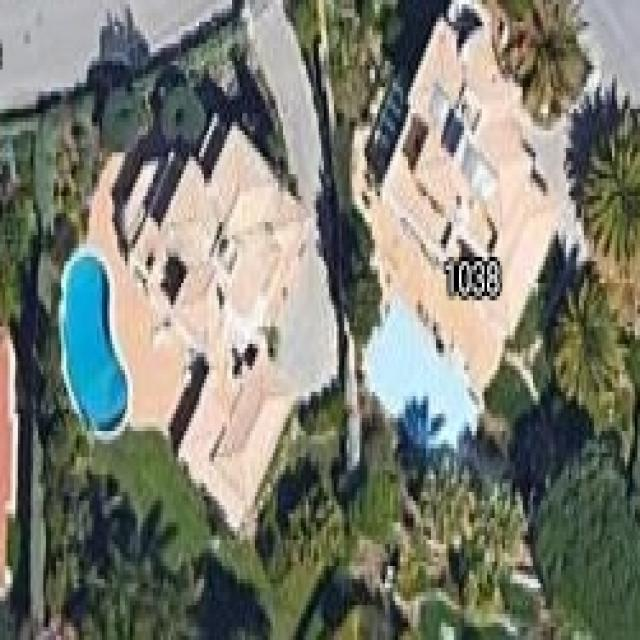pool: (308, 273, 546, 510), (29, 211, 152, 471)
